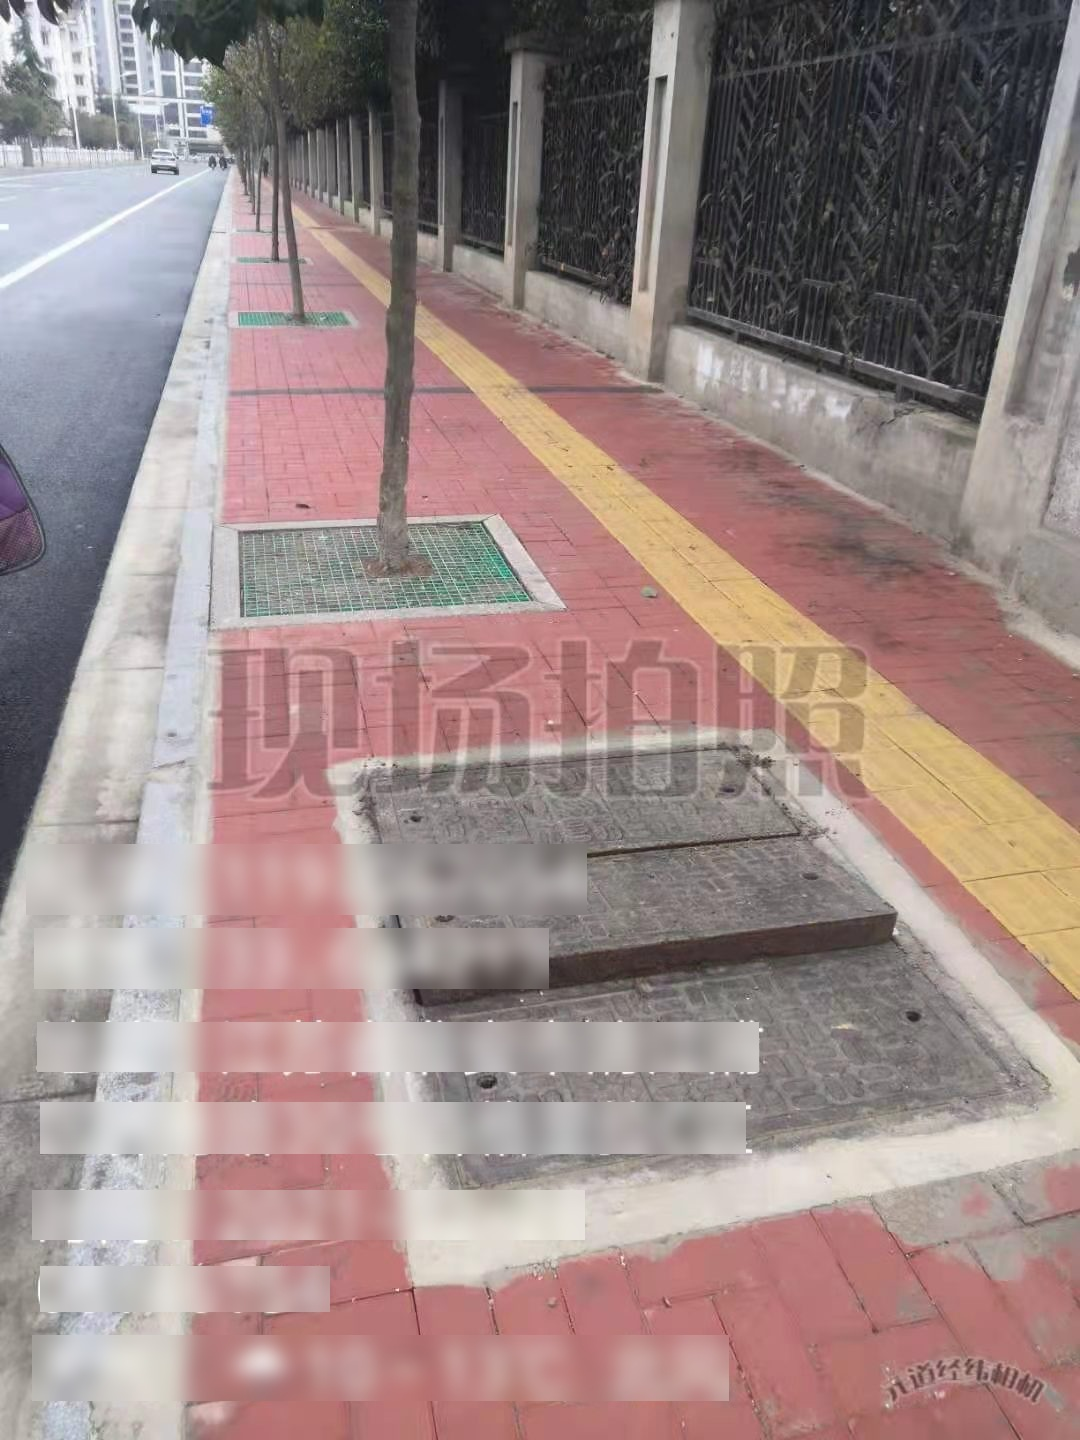uncovered: (341, 732, 1055, 1221)
